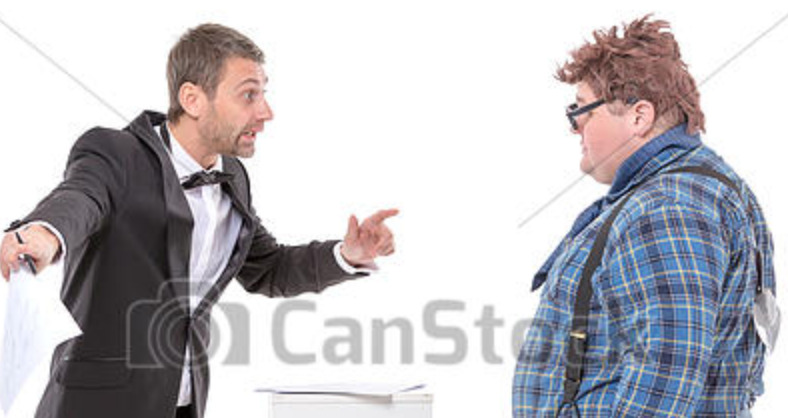Bad: (1, 16, 776, 293)
